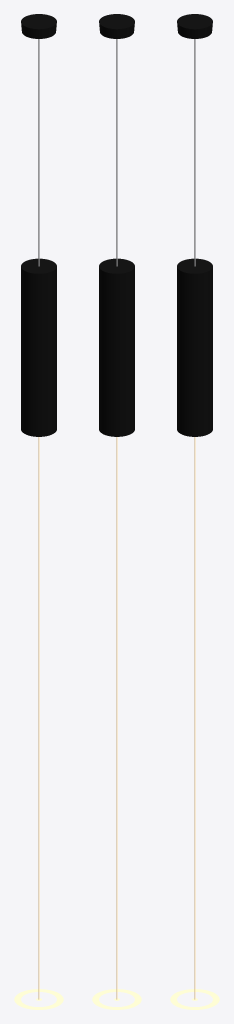
The model's file is suspension-cylindre-acier-noir-moderne-modele-neralis.glb.
The picture shows the model from 3 angles, left to right: view 1: azimuth 90°, elevation 25°; view 2: azimuth 150°, elevation 25°; view 3: azimuth 270°, elevation 25°; orthographic projection.
Visible parts, largest first — view 1: suspension-cylindre-acier-noir-moderne-modele-neralis, reperage-fil, reperage-sol; view 2: suspension-cylindre-acier-noir-moderne-modele-neralis, reperage-fil, reperage-sol; view 3: suspension-cylindre-acier-noir-moderne-modele-neralis, reperage-fil, reperage-sol.
Boxes of the visible parts, left/top/right/bottom form: suspension-cylindre-acier-noir-moderne-modele-neralis: left=21, top=14, right=56, bottom=436; reperage-fil: left=38, top=437, right=39, bottom=999; reperage-sol: left=14, top=989, right=63, bottom=1009; suspension-cylindre-acier-noir-moderne-modele-neralis: left=99, top=14, right=134, bottom=436; reperage-fil: left=116, top=437, right=117, bottom=999; reperage-sol: left=92, top=989, right=141, bottom=1009; suspension-cylindre-acier-noir-moderne-modele-neralis: left=177, top=14, right=212, bottom=436; reperage-fil: left=194, top=437, right=195, bottom=999; reperage-sol: left=170, top=989, right=219, bottom=1009.
Size of the model in its own units: 0.11 by 2.4 by 0.11.
